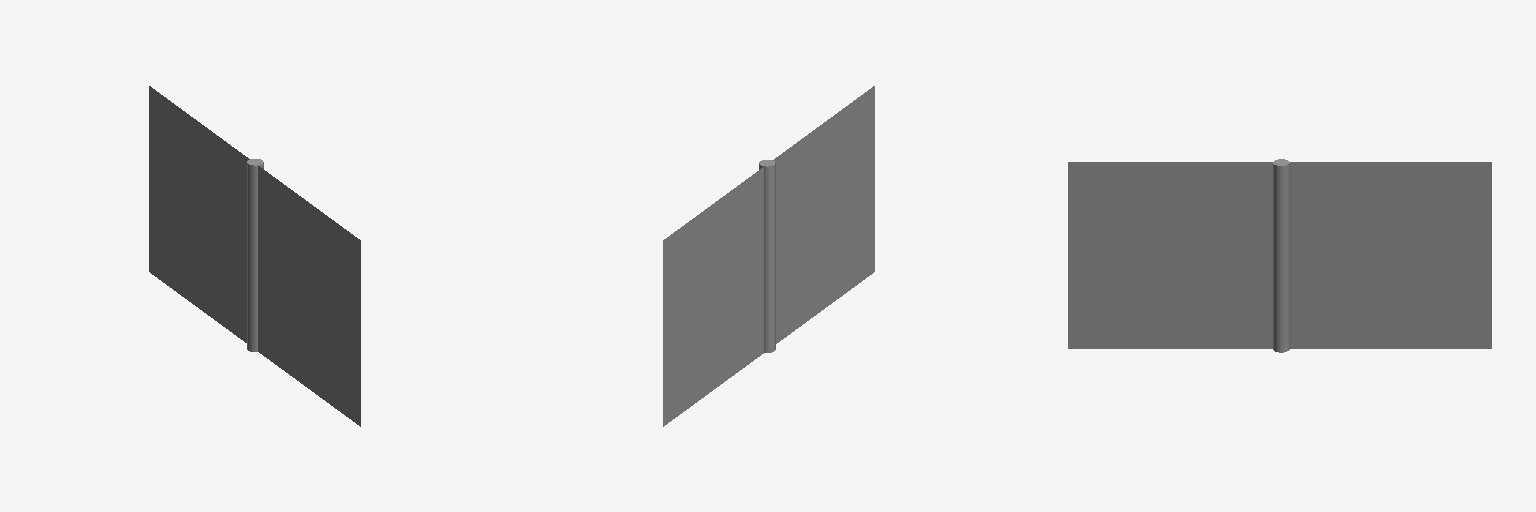
Rendered from Fence.obj.
The picture shows the model from 3 angles: view 1: azimuth 30°, elevation 25°; view 2: azimuth 150°, elevation 25°; view 3: azimuth 270°, elevation 25°; orthographic projection.
Visible parts, largest first — view 1: Cylinder.001_Cylinder.002; view 2: Cylinder.001_Cylinder.002; view 3: Cylinder.001_Cylinder.002.
Boxes of the visible parts, x1,y1,x2,y2 form: Cylinder.001_Cylinder.002: [149, 86, 360, 426]; Cylinder.001_Cylinder.002: [663, 86, 874, 426]; Cylinder.001_Cylinder.002: [1068, 159, 1491, 352].
Bounding box in the file's own units: 0.16 × 2 × 4.11.